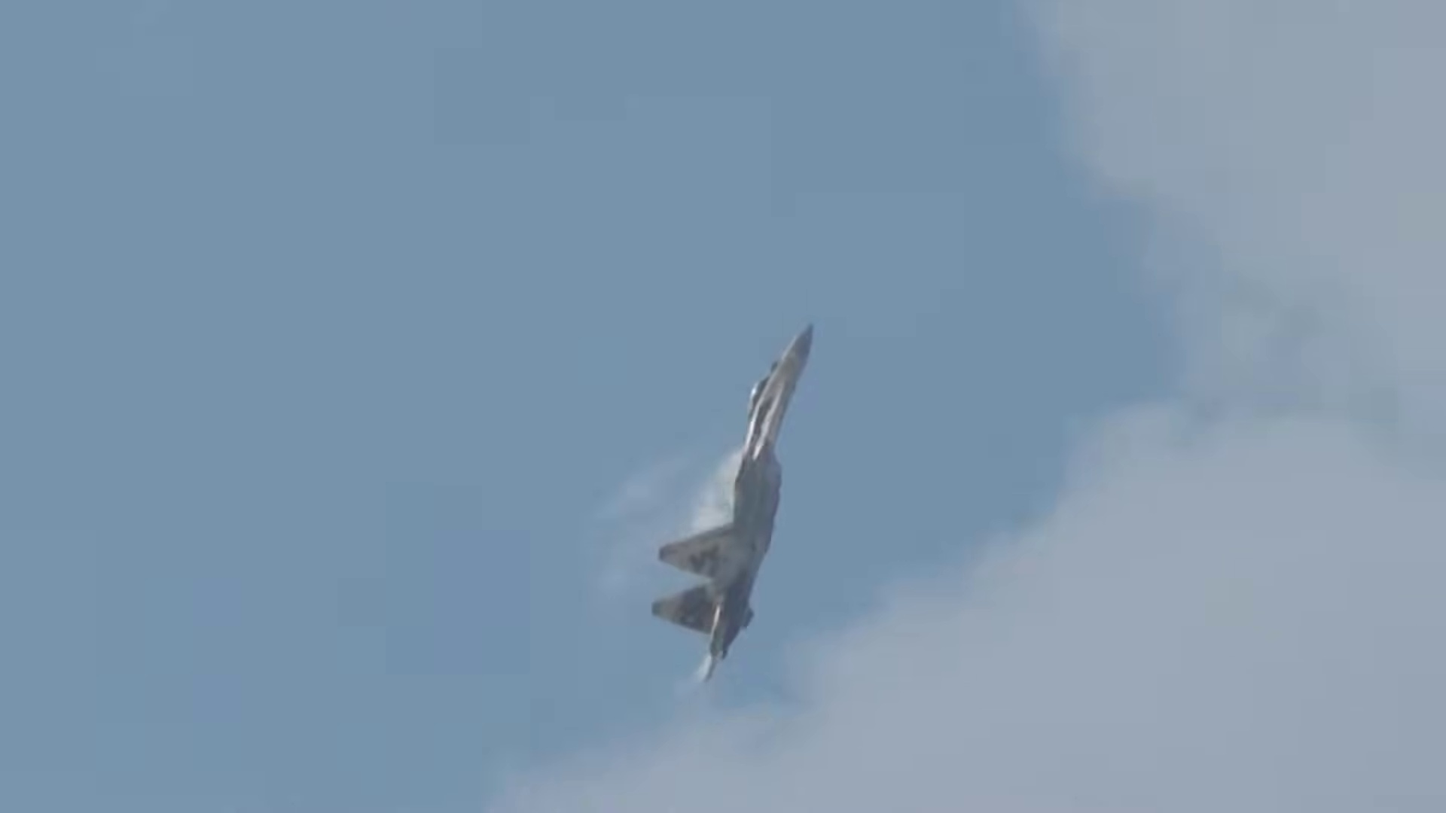Su35: (640, 312, 839, 699)
